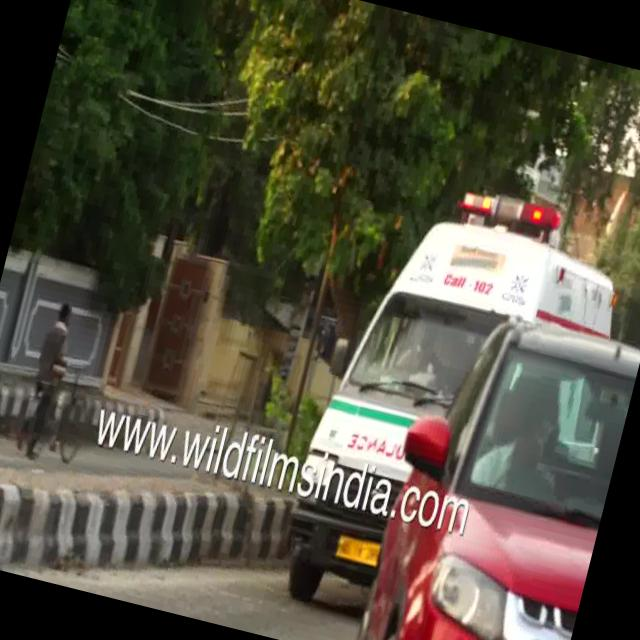ambulance: (314, 141, 640, 467)
